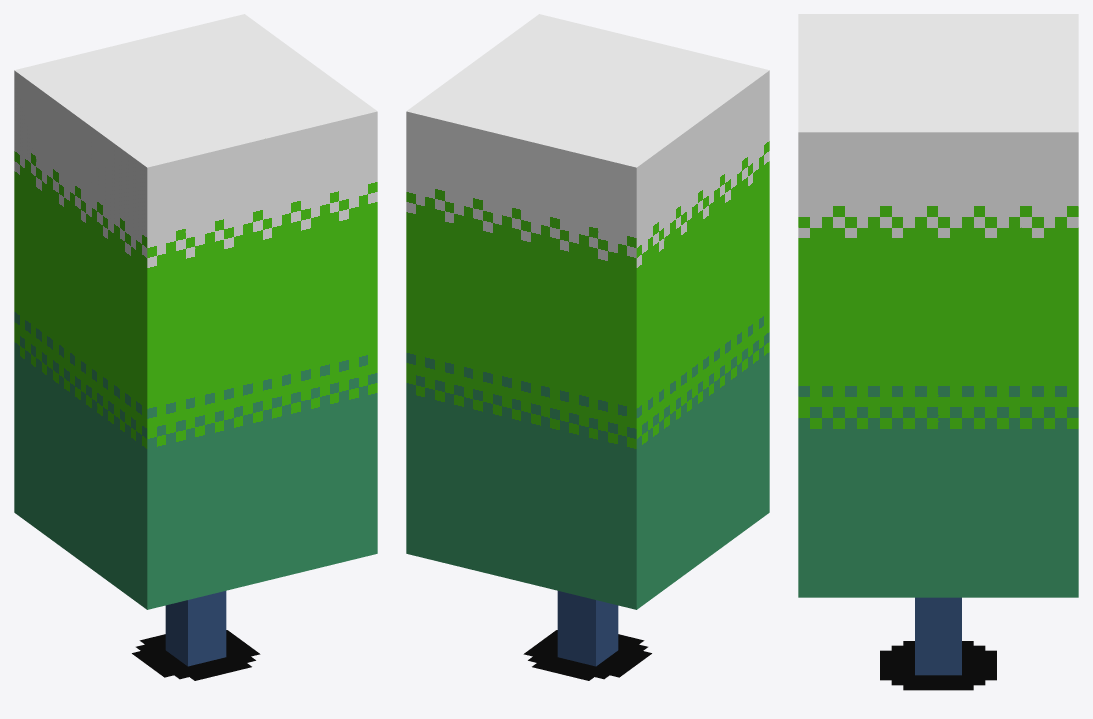
File: tree.obj
3 views of the same model, side by side, from view 1: azimuth 30°, elevation 25°; view 2: azimuth 150°, elevation 25°; view 3: azimuth 270°, elevation 25° (orthographic). The views are drawn at different scales.
Parts seen in each view (by area): view 1: cube, plane; view 2: cube, plane; view 3: cube, plane.
Part boxes in pixels (x1,y1,x2,y2): cube: (14,14,377,666); plane: (132,630,260,680); cube: (406,14,769,666); plane: (523,630,651,680); cube: (798,14,1078,675); plane: (880,641,996,690).
Bounding box in the file's own units: 0.75 × 1.75 × 0.75.
Materials: 2 (1 with a texture image).
